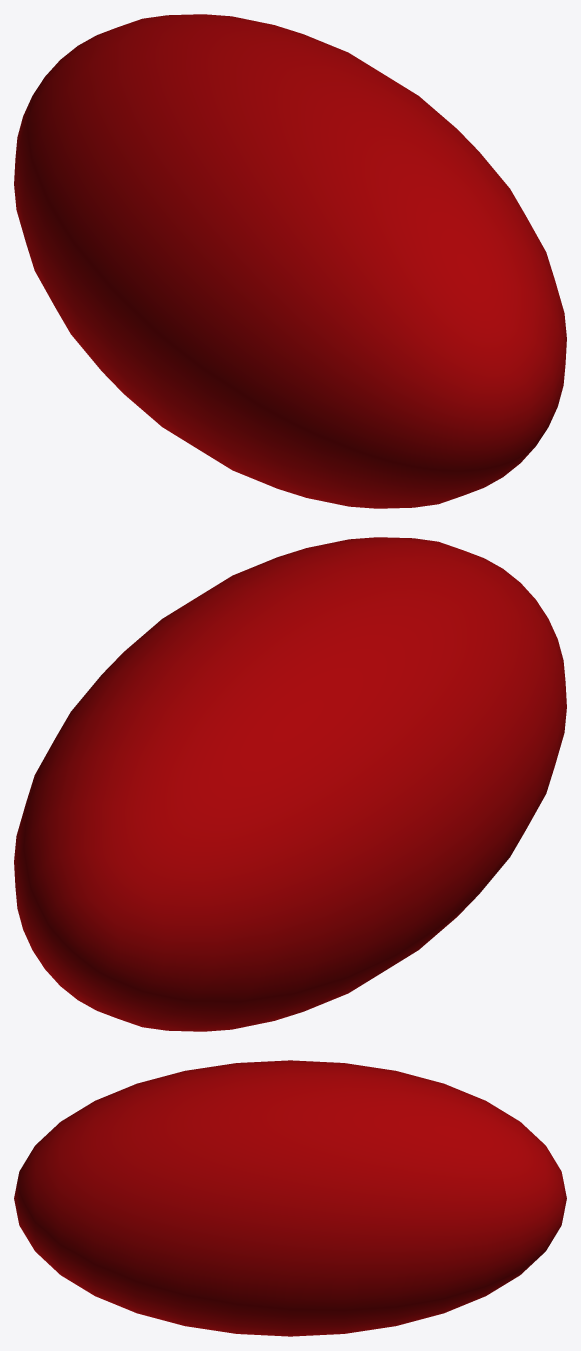
File: Space_Fighter.dae
The picture shows the model from 3 angles, top to bottom: view 1: azimuth 30°, elevation 25°; view 2: azimuth 150°, elevation 25°; view 3: azimuth 270°, elevation 25°; orthographic projection. The views are drawn at different scales.
Visible parts, largest first — view 1: Fighter; view 2: Fighter; view 3: Fighter.
Part boxes in pixels (box(x1,y1,x2,y2)): Fighter: box(14, 14, 566, 508); Fighter: box(14, 537, 566, 1031); Fighter: box(14, 1060, 566, 1336).
Size of the model in its own units: 2 by 2 by 4.
